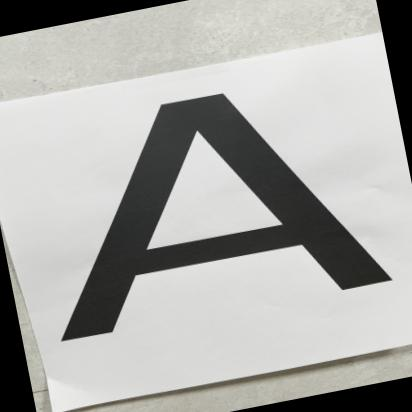seat: (19, 49, 412, 369)
